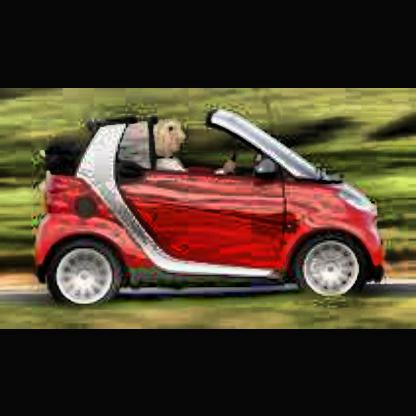smart fortwo Convertible 2012: (34, 113, 387, 313)
